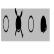correct: (41, 14, 47, 35)
not correct: (14, 8, 24, 40)
